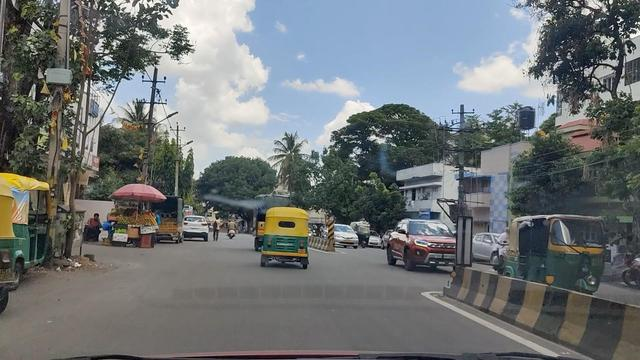LMV: (262, 207, 308, 271)
